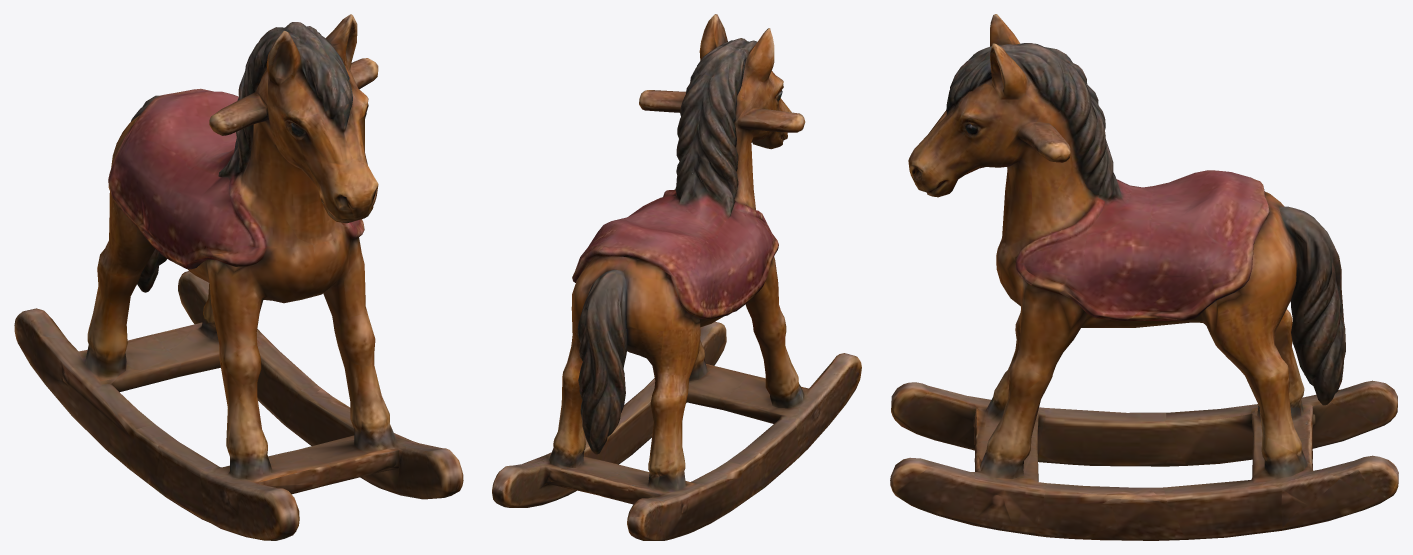
Rendered from horse.glb.
3 views of the same model, side by side, from view 1: azimuth 30°, elevation 25°; view 2: azimuth 150°, elevation 25°; view 3: azimuth 270°, elevation 25° (orthographic). The views are drawn at different scales.
Visible parts, largest first — view 1: prop; view 2: prop; view 3: prop.
Part boxes in pixels (box(x1,y1,x2,y2)): prop: box(14, 14, 463, 540); prop: box(492, 14, 861, 540); prop: box(890, 14, 1398, 540).
Bounding box in the file's own units: 0.3851 × 1 × 0.9765.
Materials: 1 (1 with a texture image).
